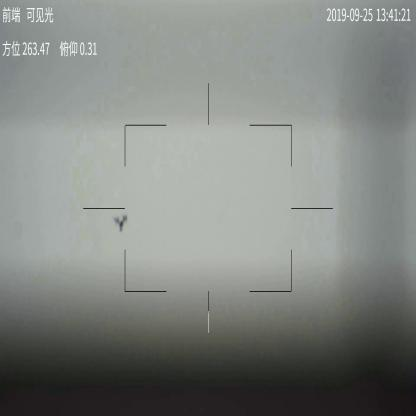uav: (113, 214, 130, 234)
